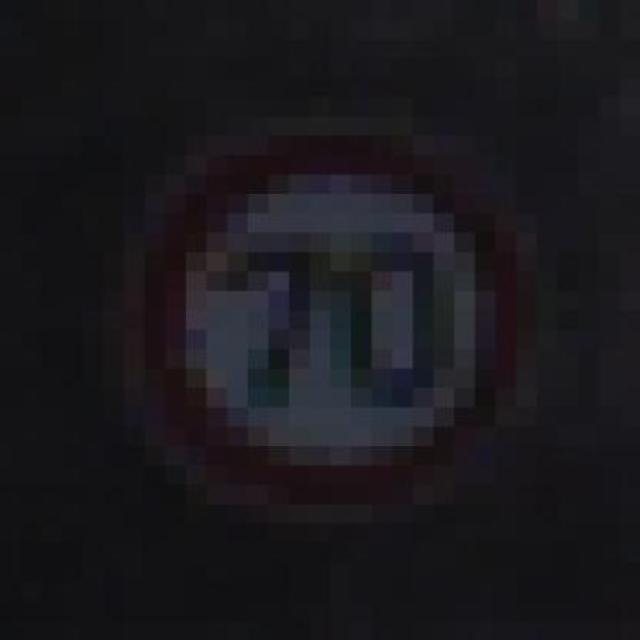forb_speed_over_70: (134, 136, 526, 509)
